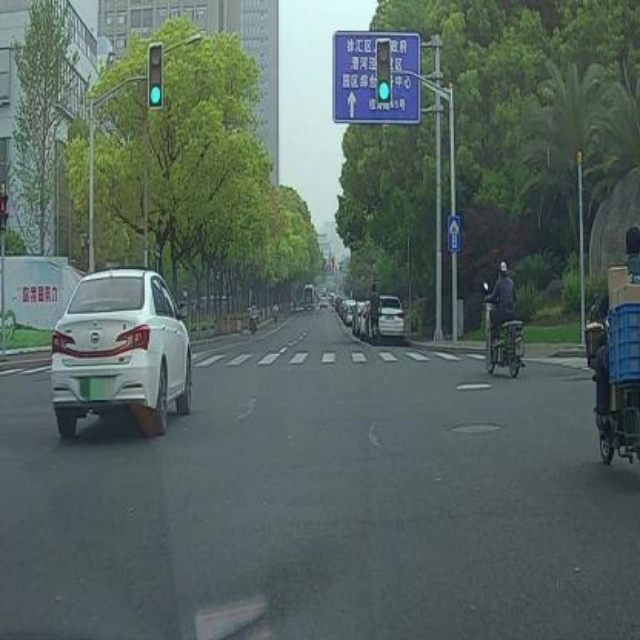Đèn xanh: (374, 37, 392, 108), (147, 40, 163, 112)
